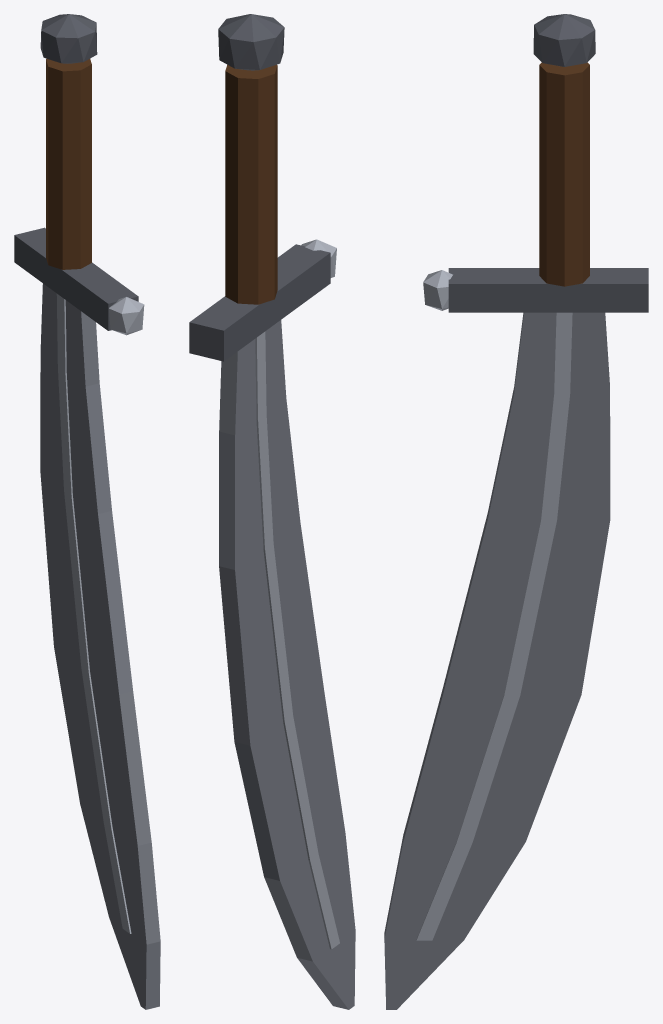
File: held_iron_scimitar.glb
The picture shows the model from 3 angles, left to right: view 1: azimuth 30°, elevation 25°; view 2: azimuth 150°, elevation 25°; view 3: azimuth 270°, elevation 25°; orthographic projection. The views are drawn at different scales.
Parts seen in each view (by area): view 1: held_iron_scimitar; view 2: held_iron_scimitar; view 3: held_iron_scimitar.
Boxes of the visible parts, box(x1,y1,x2,y2) form: held_iron_scimitar: box(14, 14, 160, 1009); held_iron_scimitar: box(189, 14, 355, 1009); held_iron_scimitar: box(384, 14, 648, 1009).
Bounding box in the file's own units: 0.0468 × 0.822 × 0.1983.
